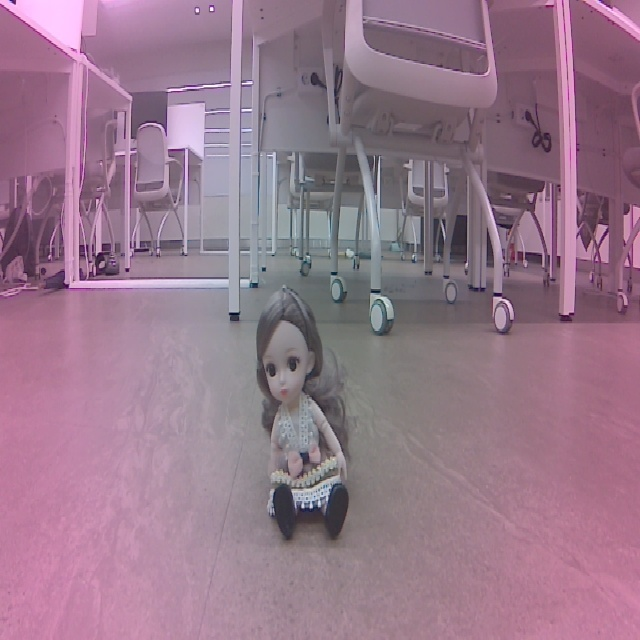장애물: (241, 285, 366, 551)
